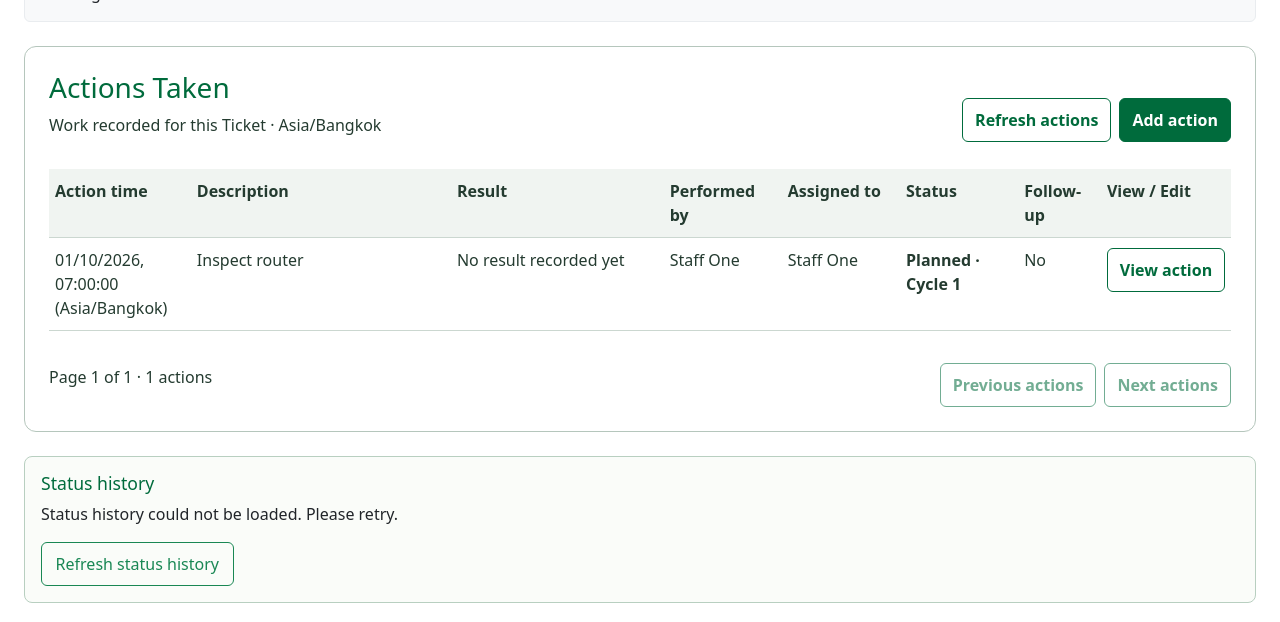
Scenario: Actions integration with Ticket Detail › refreshes parent state with the latest versions and retains a now-read-only draft
(page scrolled)
Click the button with aria-label "View action: Inspect router" at coordinates (1166, 270), box [1107,248,1225,292]
(page scrolled)
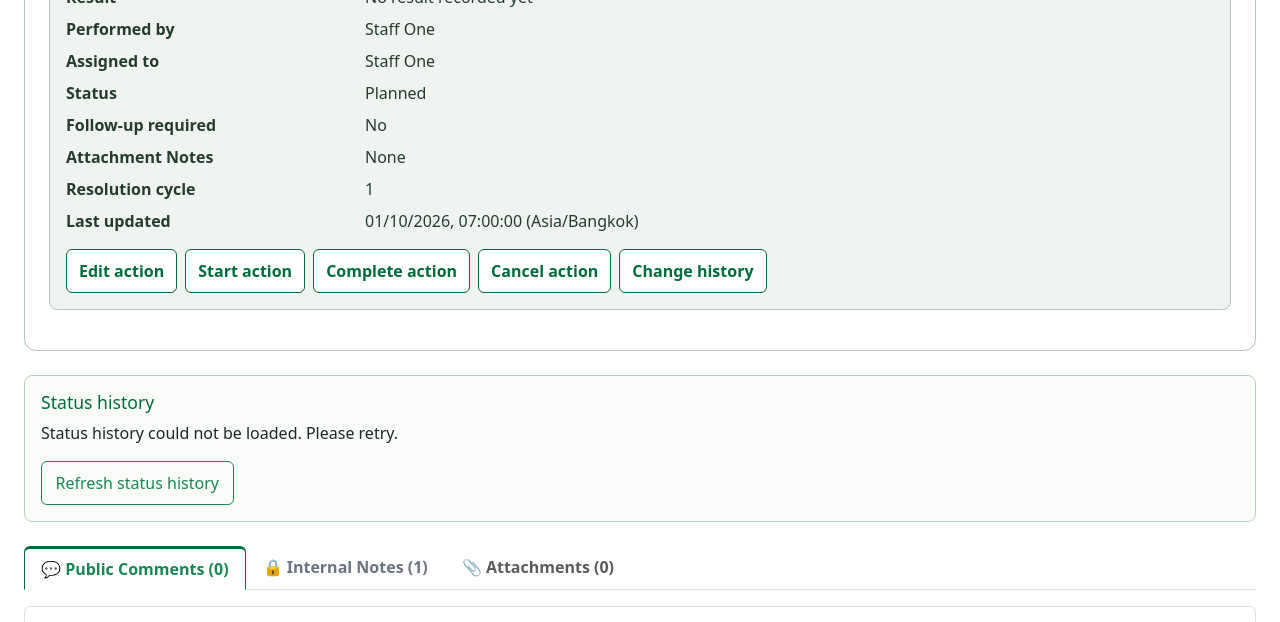
Click the button "Edit action" at coordinates (122, 271), box [66,249,177,293]
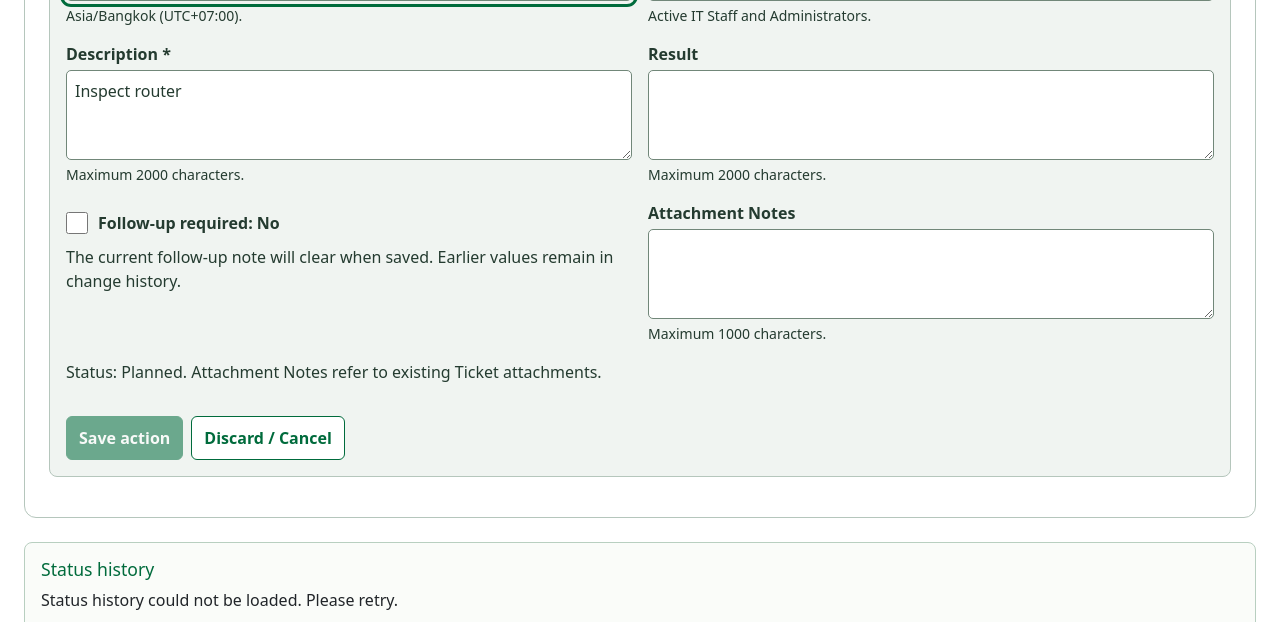
Replace the text in the text box labelled "Description *" with "Retained after closing" at coordinates (349, 115), box [66,70,632,160]
(page scrolled)
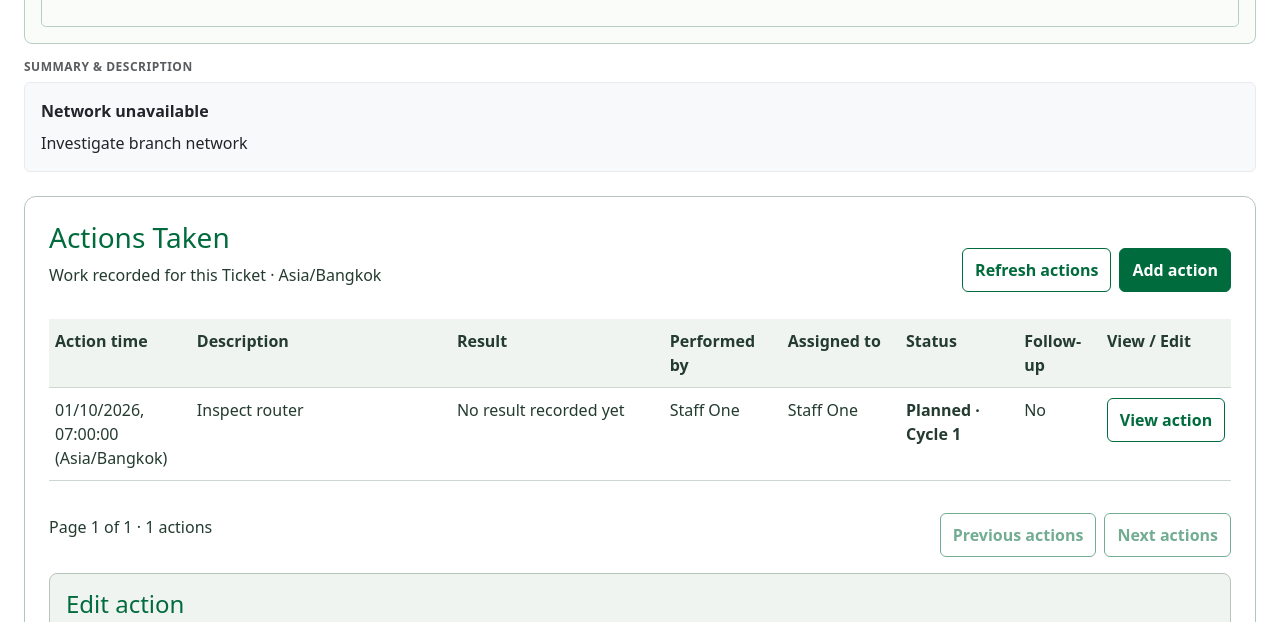
Click the button "Refresh actions" at coordinates (1037, 270), box [962,248,1111,292]
(page scrolled)
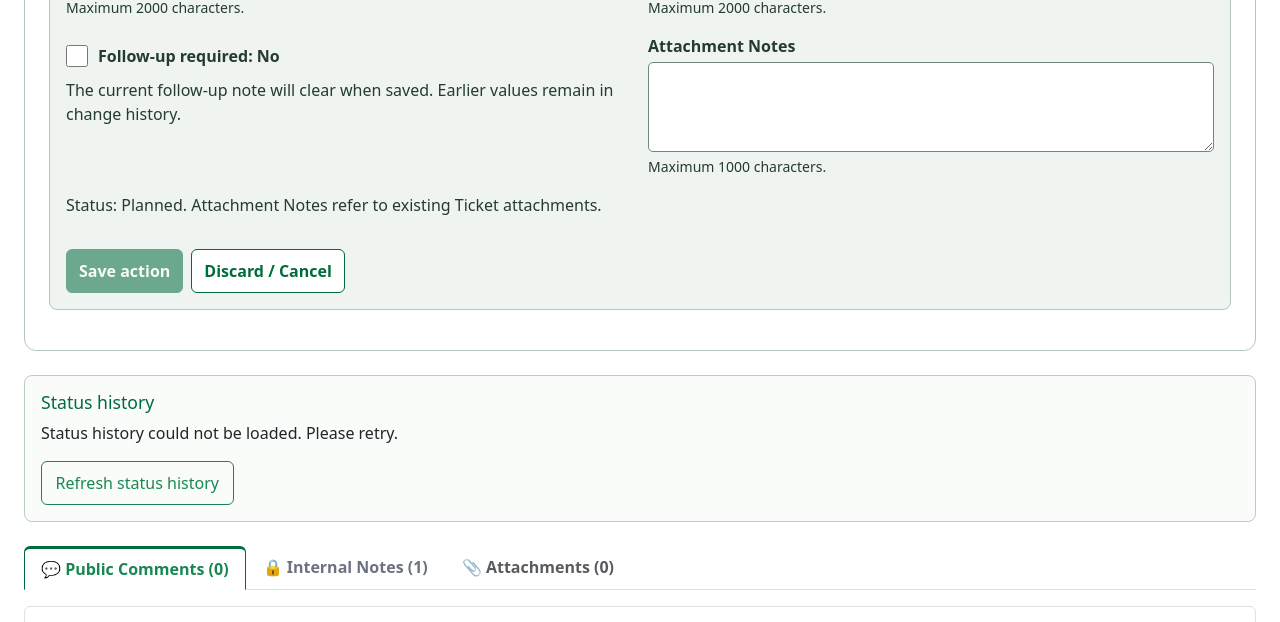
expect the button "Save action" is disabled: met, box [66,249,183,293]
